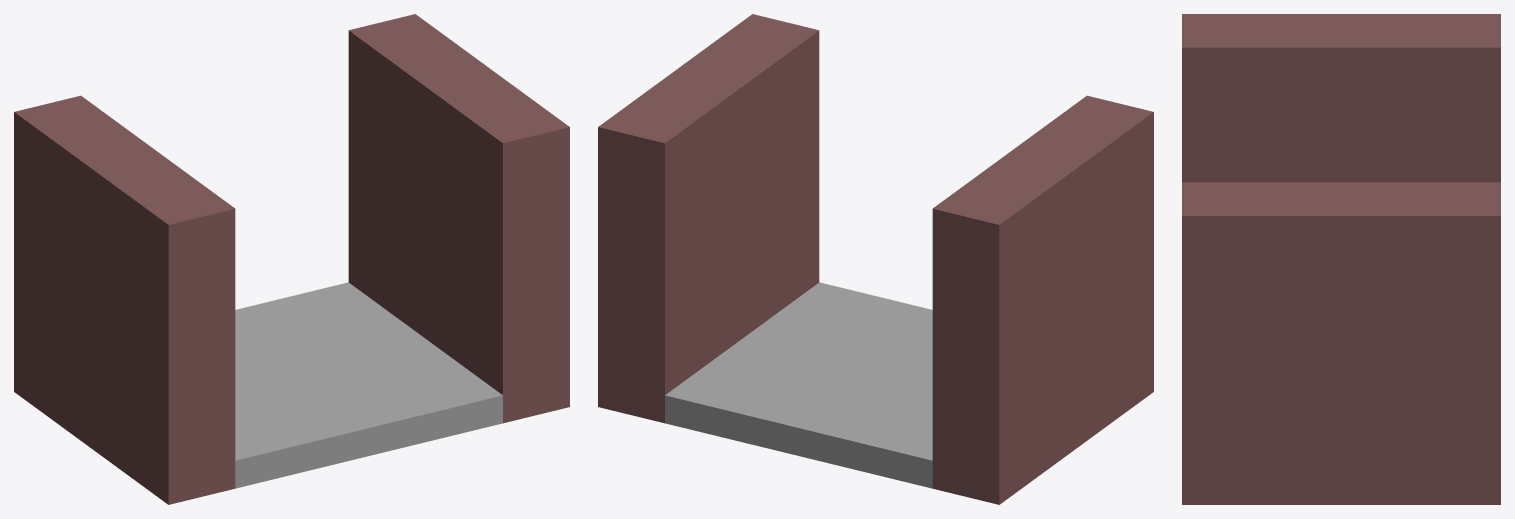
File: Road.fbx
The picture shows the model from 3 angles, left to right: view 1: azimuth 30°, elevation 25°; view 2: azimuth 150°, elevation 25°; view 3: azimuth 270°, elevation 25°; orthographic projection. The views are drawn at different scales.
Visible parts, largest first — view 1: pPlane4; view 2: pPlane4; view 3: pPlane4.
Part boxes in pixels (left/top/right/bottom): pPlane4: left=14, top=14, right=569, bottom=504; pPlane4: left=598, top=14, right=1153, bottom=504; pPlane4: left=1182, top=14, right=1500, bottom=504.
Size of the model in its own units: 1.5 by 1 by 1.
